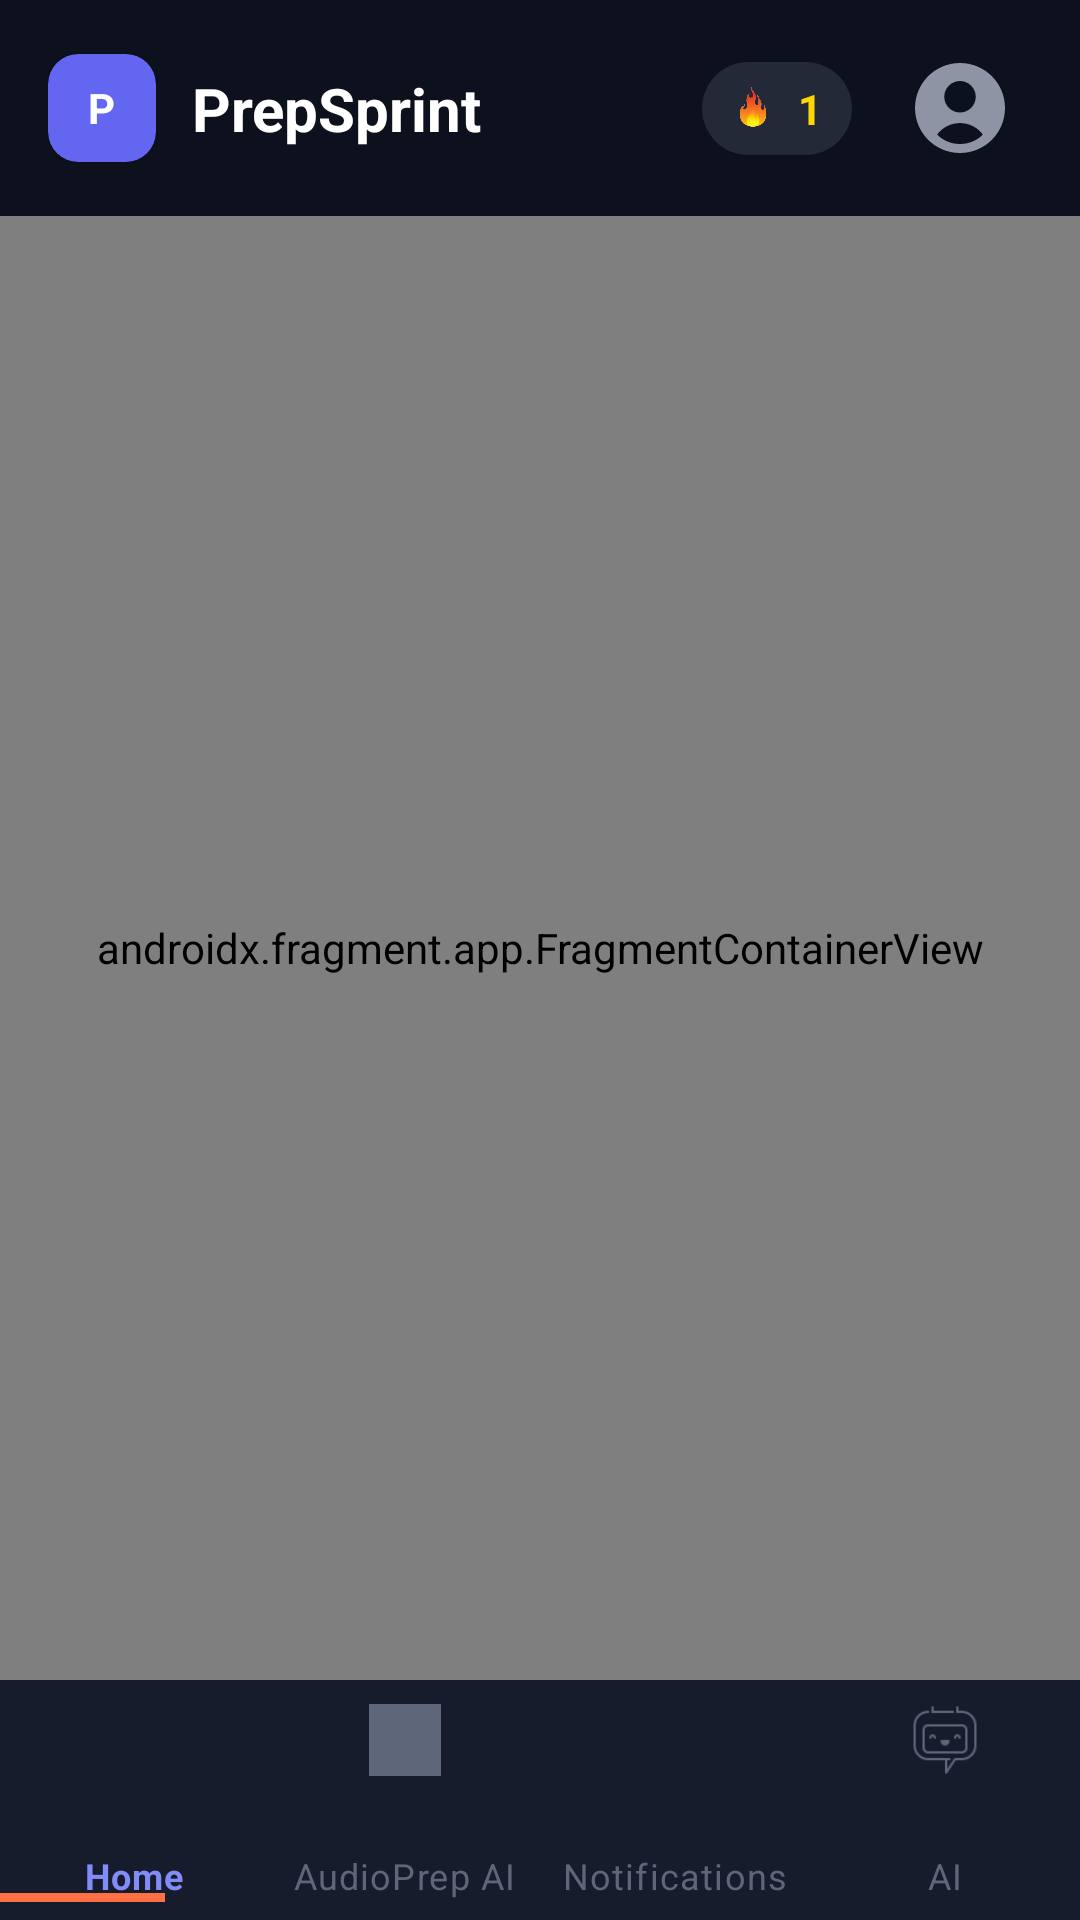

Point at icon controls on the screen. Image size 1080w x 1920h, points as (x,y).
account circle: (960,108)
streak: (753,107)
